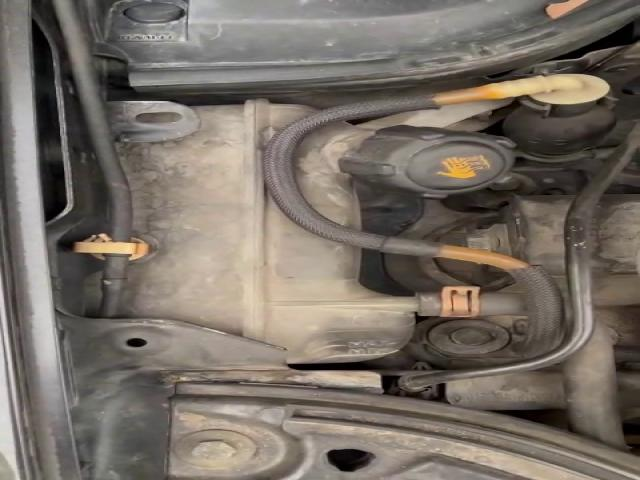antifreeze_tank: (121, 100, 415, 362), (296, 123, 515, 228)
